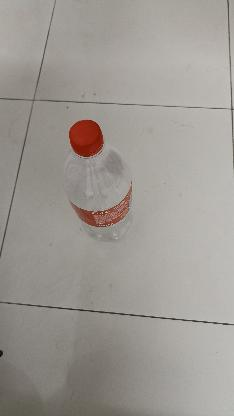Plastic Bottle: (58, 108, 138, 247)
